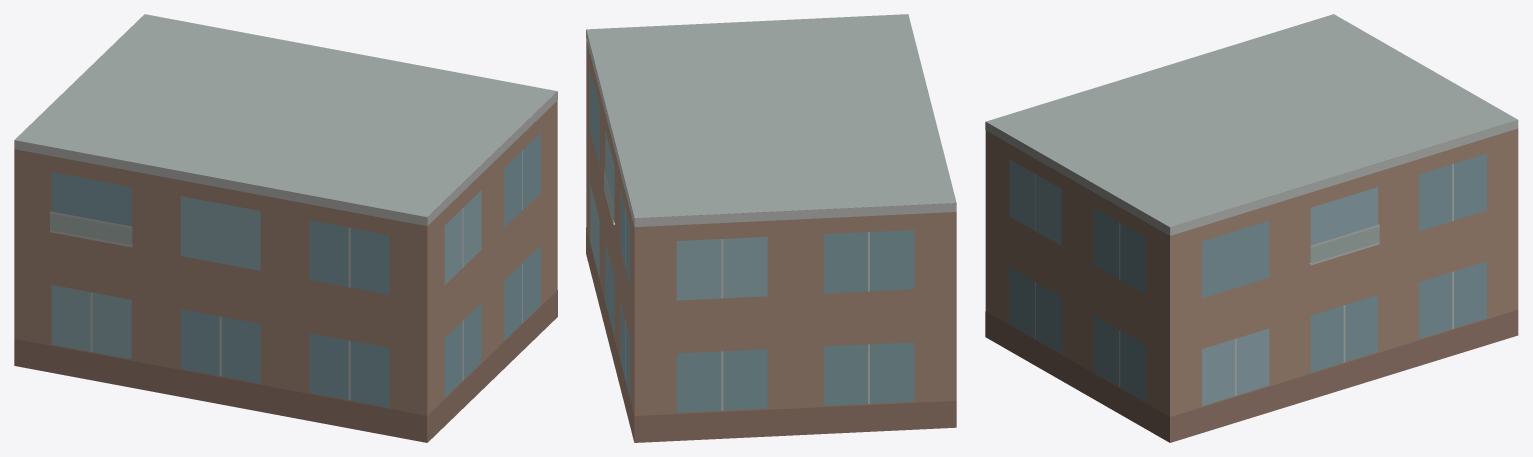
Rendered from survey-upis-32709551.glb.
3 views of the same model, side by side, from view 1: azimuth 30°, elevation 25°; view 2: azimuth 150°, elevation 25°; view 3: azimuth 270°, elevation 25° (orthographic). The views are drawn at different scales.
Visible parts, largest first — view 1: survey-upis-32709551.tmp; view 2: survey-upis-32709551.tmp; view 3: survey-upis-32709551.tmp.
Boxes of the visible parts, left/top/right/bottom form: survey-upis-32709551.tmp: left=14, top=14, right=557, bottom=442; survey-upis-32709551.tmp: left=586, top=14, right=956, bottom=442; survey-upis-32709551.tmp: left=985, top=14, right=1518, bottom=442.
Size of the model in its own units: 12.96 by 6.1 by 13.67.
